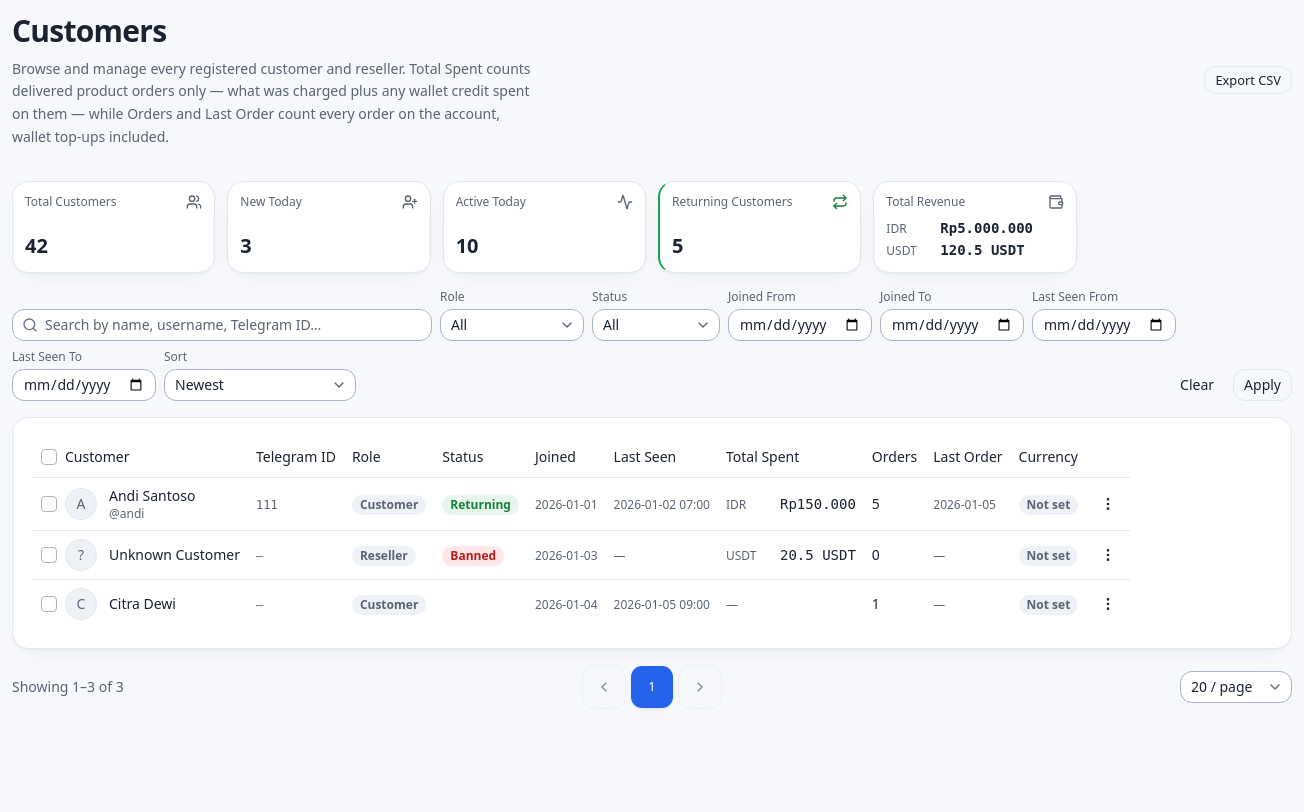
Scenario: UsersPage › row action menu: View Customer always present, View Orders present only when an identifier resolves, and navigates to /orders?q=...
Check: the text "Andi Santoso" is shown, box top-left (109, 486), bottom-right (195, 506)
Note: Andi has a telegramId — View Orders present.
Click the button named "actions for andi santoso" at point(1108, 504), box top-left (1094, 490), bottom-right (1122, 518)
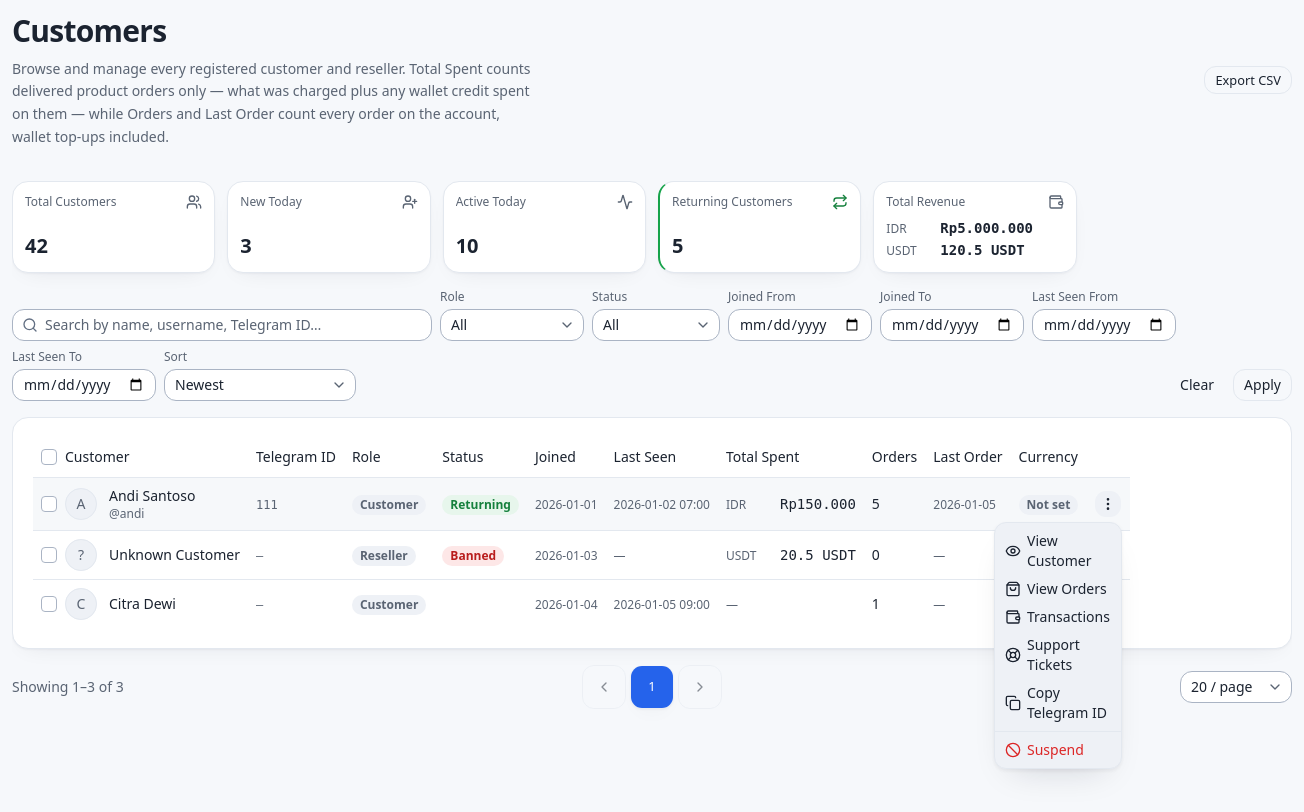
Check: the menu item "View Customer" is shown, box top-left (1005, 531), bottom-right (1092, 570)
Check: the menu item "View Orders" is shown
Check: the menu item "Transactions" is shown, box top-left (999, 603), bottom-right (1117, 631)
Click the menu item "View Orders" at point(1058, 589), box top-left (999, 575), bottom-right (1117, 603)
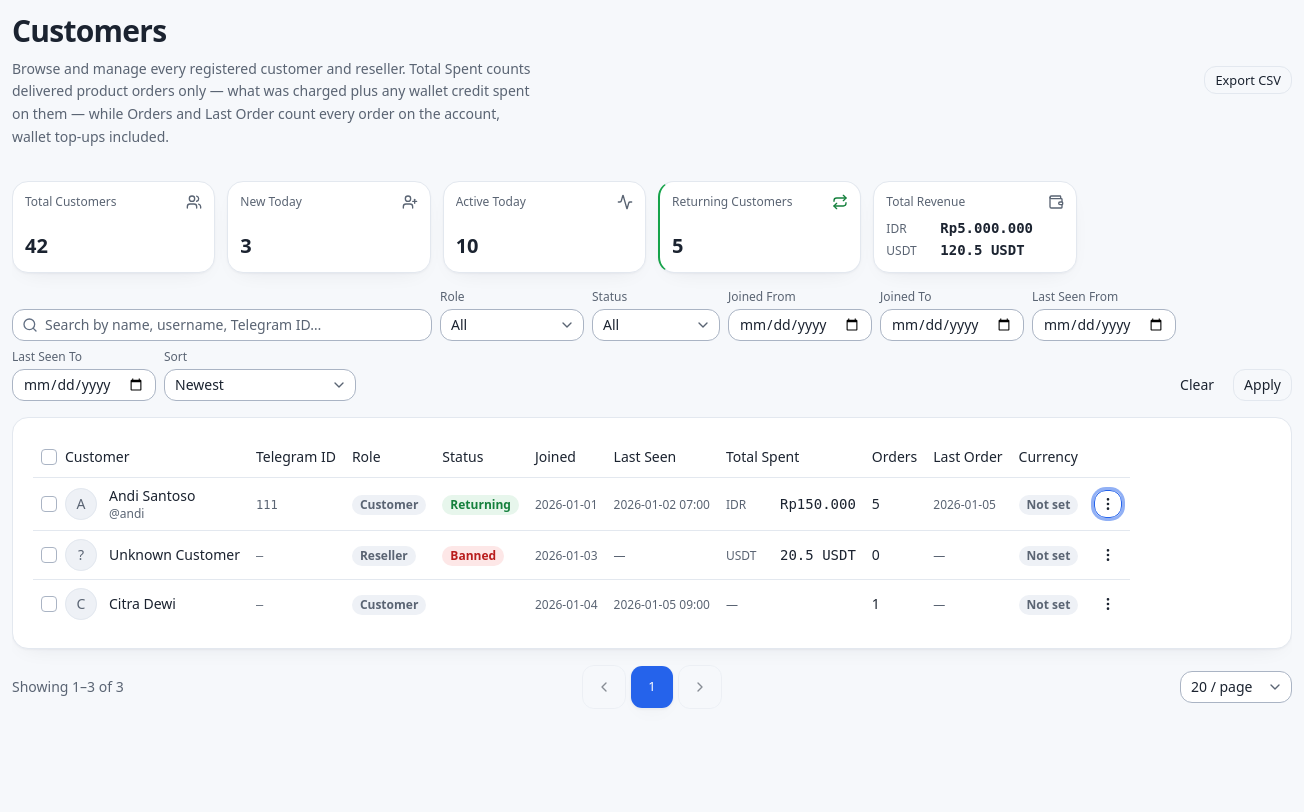
Note: Budi has no telegramId, username, or fullName — View Orders absent.
Click the button named "actions for 2" at point(1108, 555), box top-left (1094, 541), bottom-right (1122, 569)
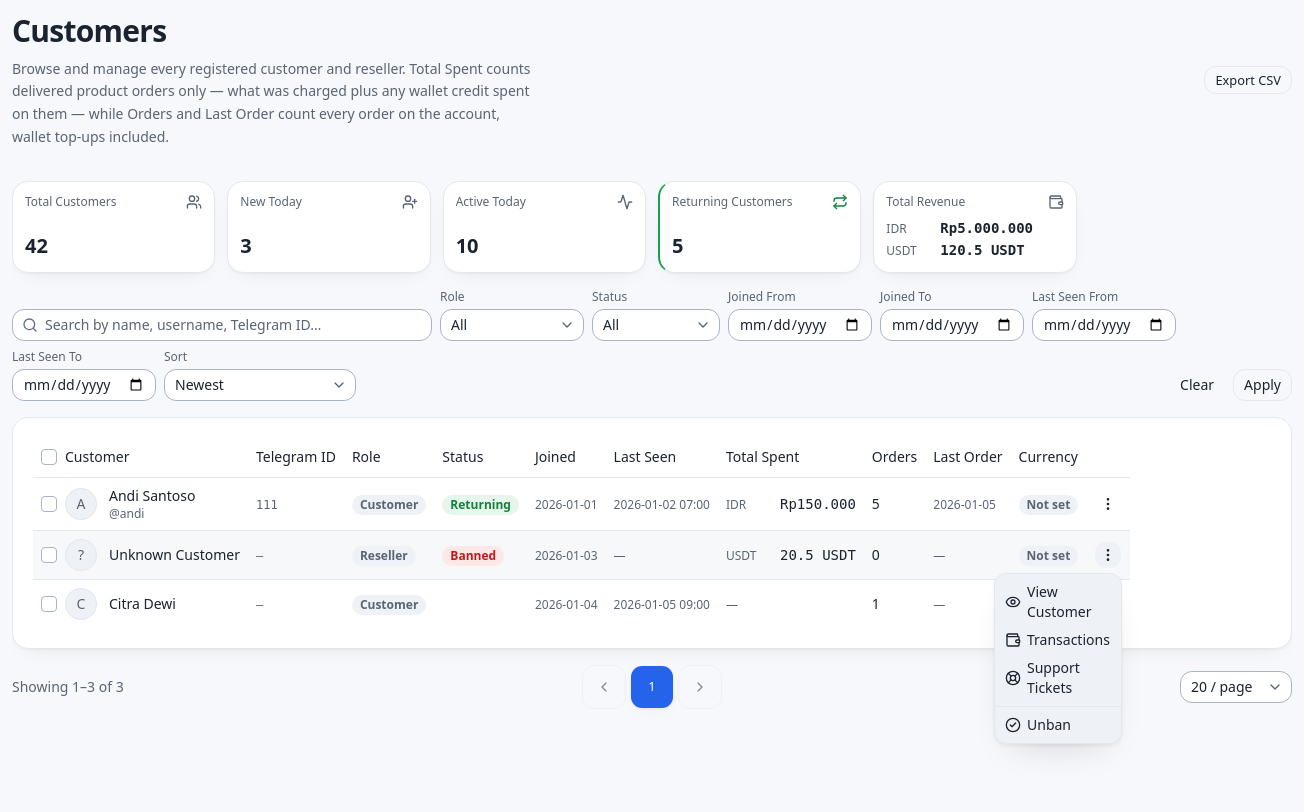
Check: the menu item "View Orders" is not shown
Check: the menu item "View Customer" is shown, box top-left (1005, 582), bottom-right (1092, 621)
